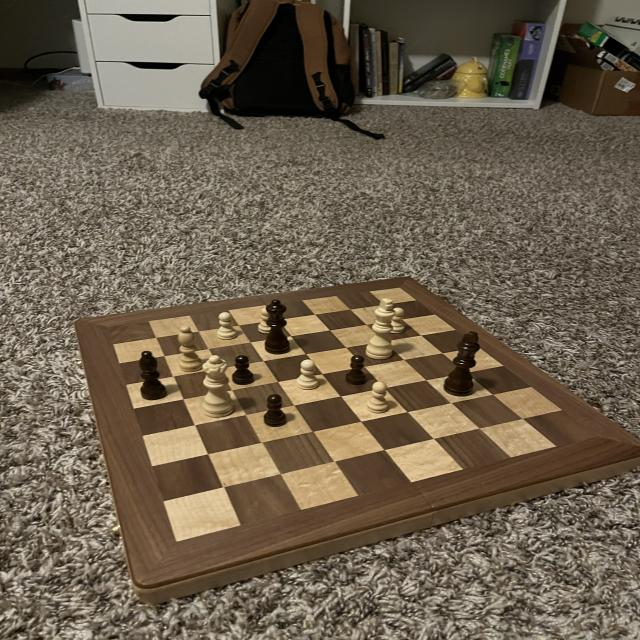bishop: (137, 348, 172, 405)
black-bishop: (438, 328, 488, 399)
black-knight: (227, 351, 260, 388), (260, 393, 291, 428), (343, 352, 368, 389)
black-pawn: (261, 295, 294, 357)
black-rook: (171, 318, 206, 375)
white-bishop: (368, 294, 402, 364)
white-knight: (362, 379, 392, 418), (294, 356, 321, 394), (385, 306, 409, 332), (218, 311, 239, 340), (258, 304, 276, 334)
white-pawn: (197, 352, 238, 419)
